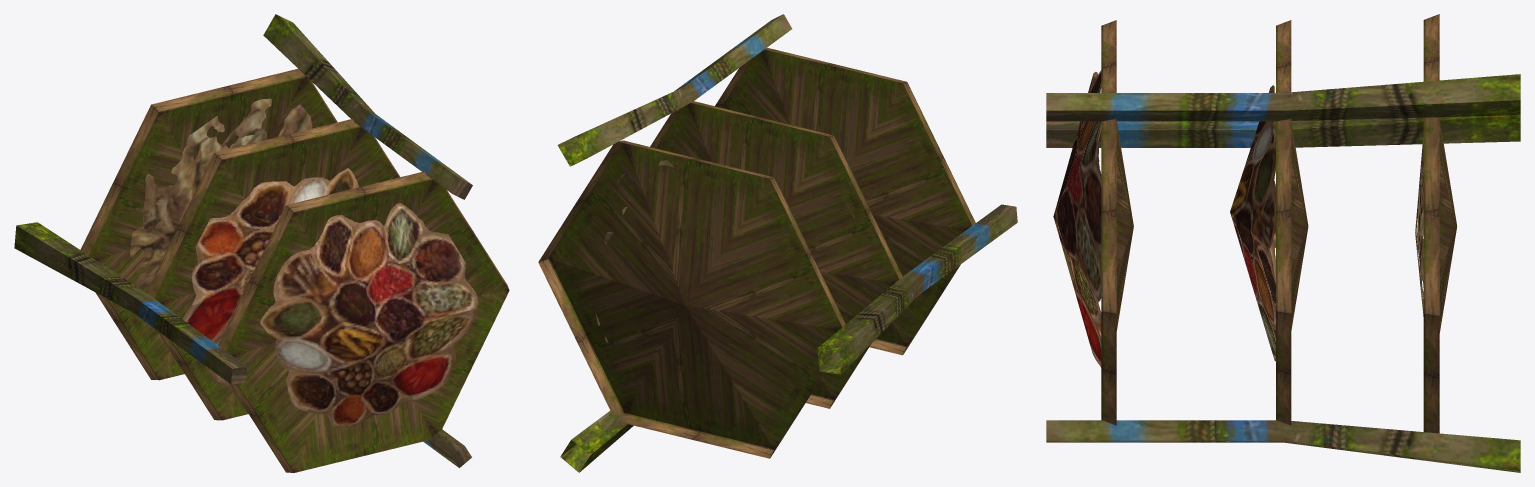
File: zhanchang_fuben_303_lianjinfang01_yaojia.obj
3 renders of one model, left to right at view 1: azimuth 30°, elevation 25°; view 2: azimuth 150°, elevation 25°; view 3: azimuth 270°, elevation 25°, orthographic. The views are drawn at different scales.
Parts seen in each view (by area): view 1: zhanchang_fuben_303_lianjinfang01_yaojia; view 2: zhanchang_fuben_303_lianjinfang01_yaojia; view 3: zhanchang_fuben_303_lianjinfang01_yaojia.
Part boxes in pixels (bbox=[...]): zhanchang_fuben_303_lianjinfang01_yaojia: bbox=[14, 14, 509, 472]; zhanchang_fuben_303_lianjinfang01_yaojia: bbox=[538, 14, 1017, 472]; zhanchang_fuben_303_lianjinfang01_yaojia: bbox=[1046, 14, 1520, 472].
Size of the model in its own units: 112 by 107 by 115.
Materials: 3 (3 with a texture image).
